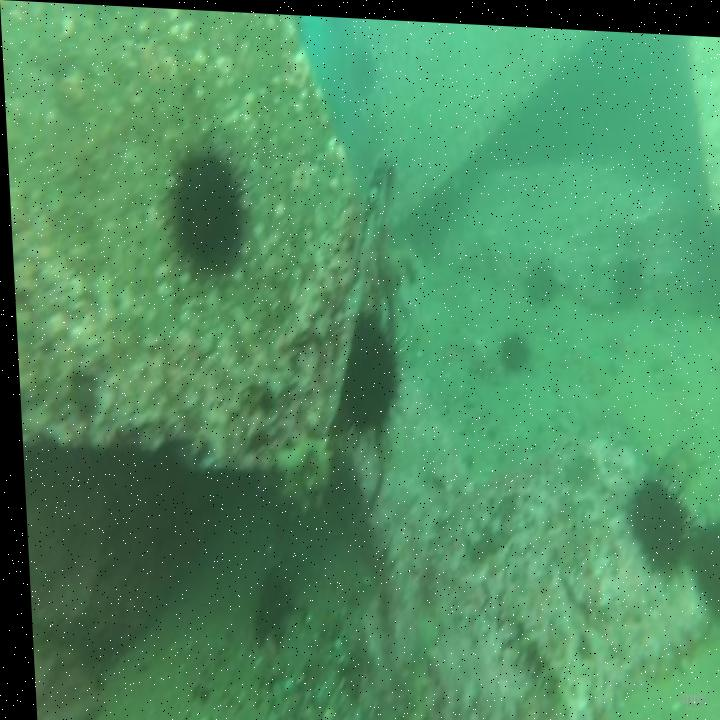echinus: (159, 135, 256, 293), (321, 290, 409, 446), (610, 439, 687, 568), (677, 496, 720, 628), (244, 560, 293, 649), (493, 316, 529, 376), (523, 249, 556, 308)
holothurian: (265, 426, 331, 525)
